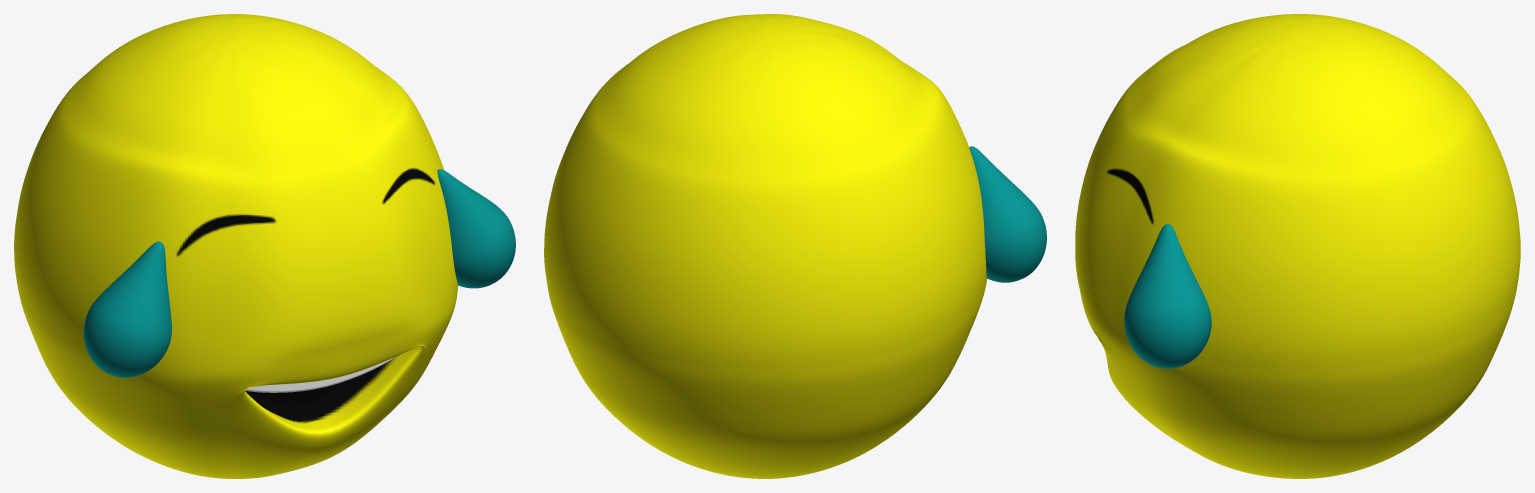
The model's file is laughing_reaction.glb.
3 views of the same model, side by side, from view 1: azimuth 30°, elevation 25°; view 2: azimuth 150°, elevation 25°; view 3: azimuth 270°, elevation 25° (orthographic).
Visible parts, largest first — view 1: pSphere4; view 2: pSphere4; view 3: pSphere4.
Part boxes in pixels (x1,y1,x2,y2): pSphere4: [14, 14, 515, 478]; pSphere4: [544, 14, 1046, 478]; pSphere4: [1075, 14, 1520, 478].
Bounding box in the file's own units: 2.66 × 2.57 × 2.43.
Materials: 2 (1 with a texture image).
